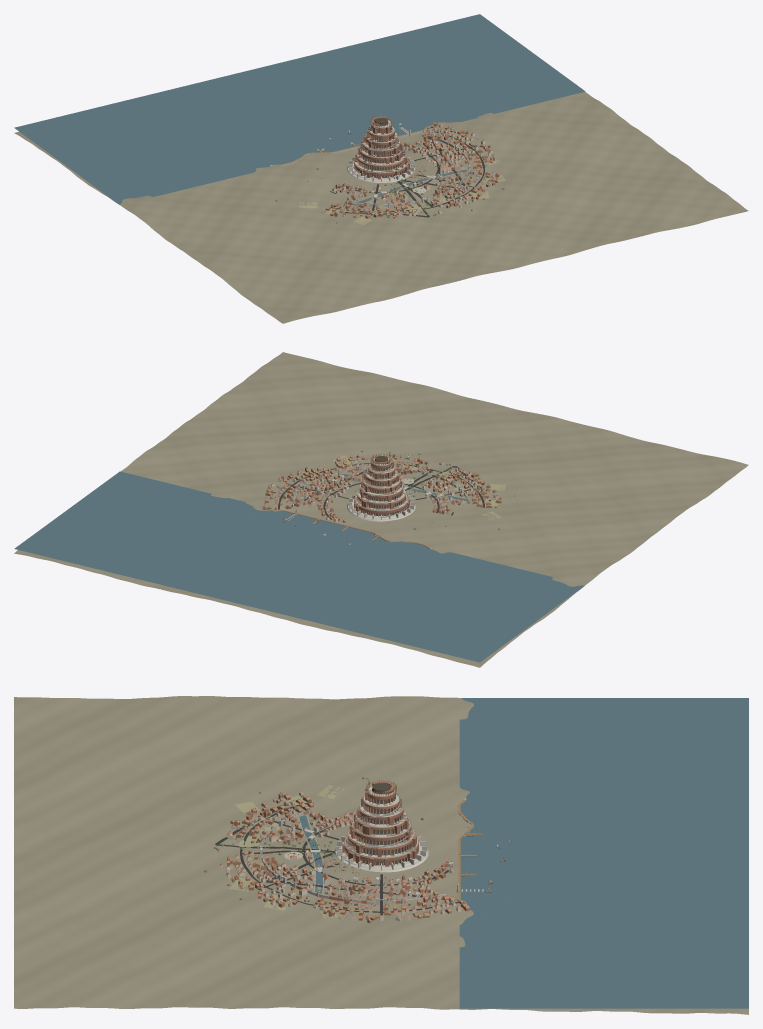
The model's file is tower_of_babel.glb.
3 renders of one model, top to bottom at view 1: azimuth 30°, elevation 25°; view 2: azimuth 150°, elevation 25°; view 3: azimuth 270°, elevation 25°, orthographic. The views are drawn at different scales.
Parts seen in each view (by area): view 1: ground, water; view 2: ground, water; view 3: ground, water, core.
Part boxes in pixels (x1=…): ground: x1=14, y1=92, x2=748, y2=323; water: x1=14, y1=14, x2=585, y2=204; ground: x1=14, y1=352, x2=748, y2=667; water: x1=14, y1=471, x2=584, y2=662; ground: x1=14, y1=696, x2=748, y2=1014; water: x1=459, y1=698, x2=748, y2=1008; core: x1=356, y1=799, x2=406, y2=865.
Size of the model in its own units: 1600 by 192 by 1600.
